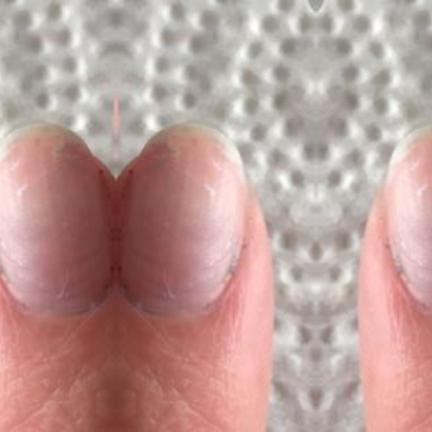Nail: (118, 123, 246, 316), (0, 123, 112, 316), (385, 124, 432, 311)
